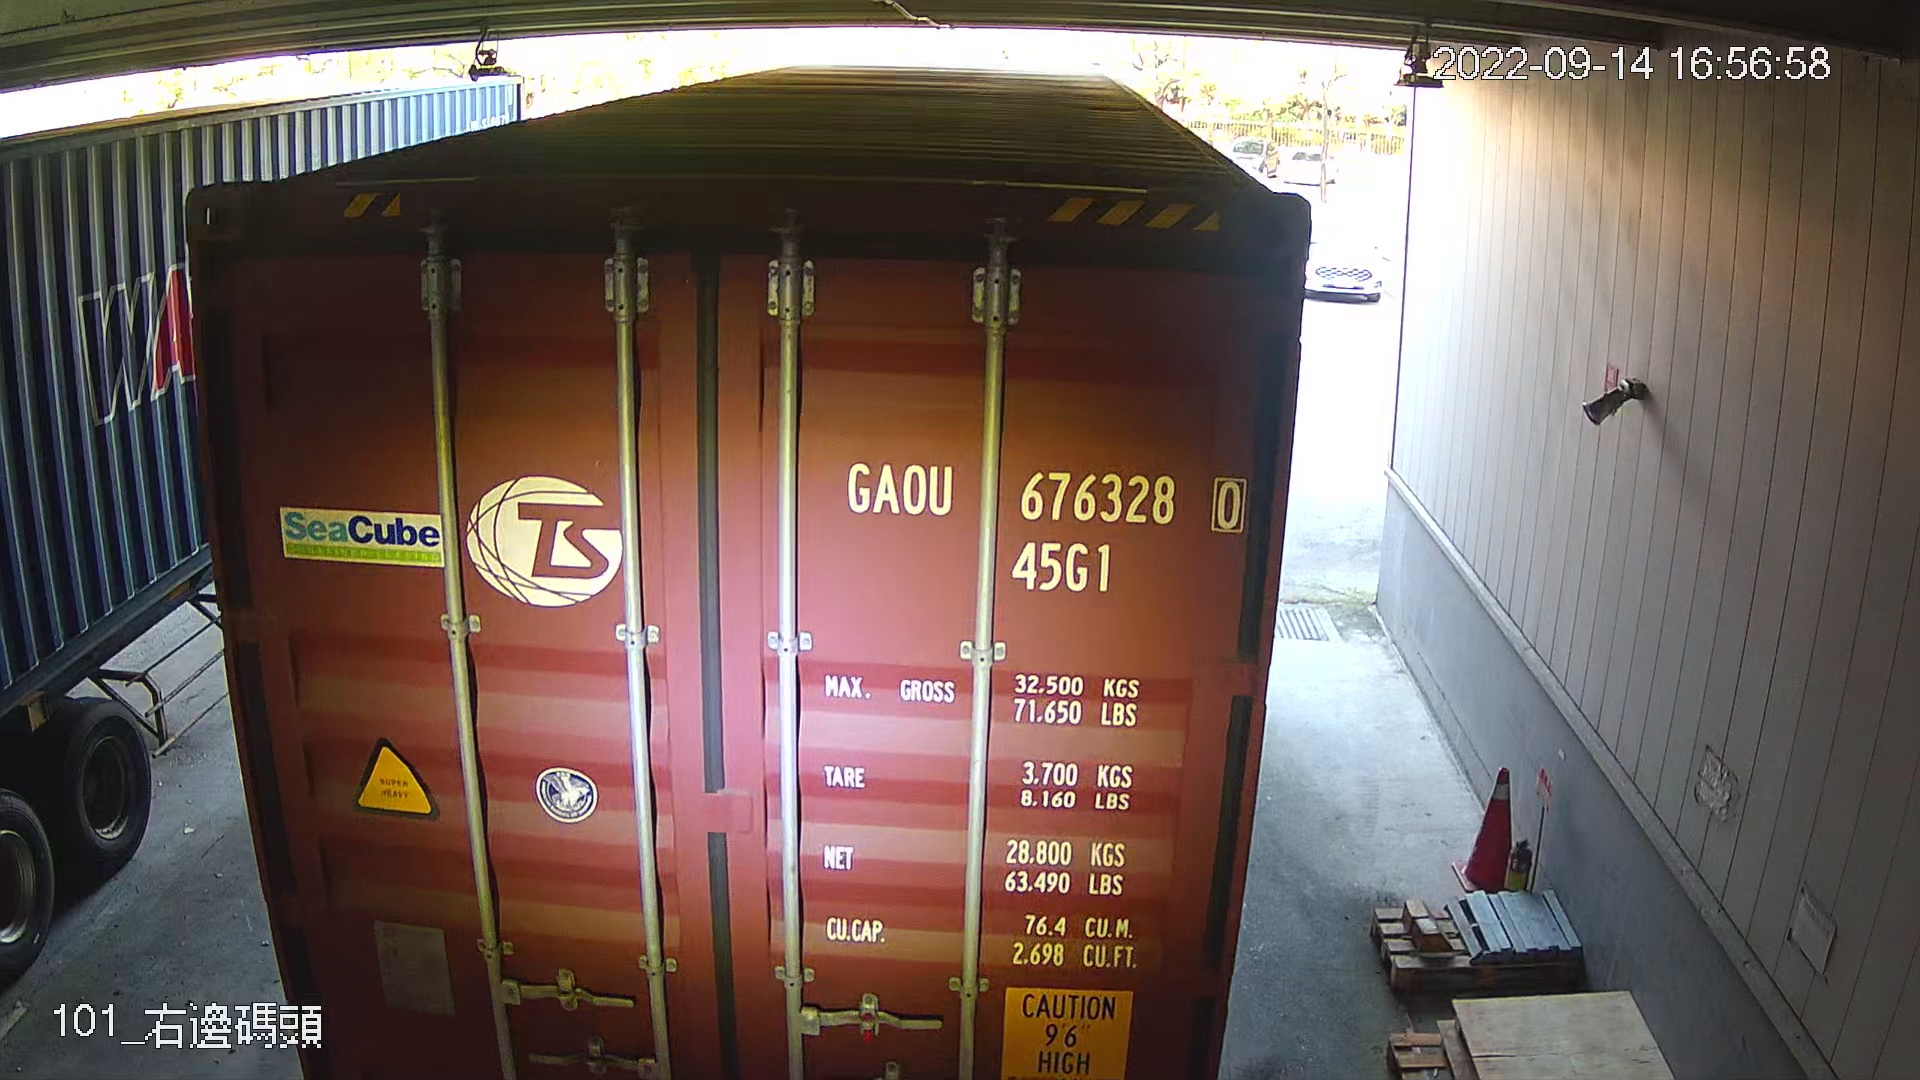container: (831, 442, 1257, 597)
